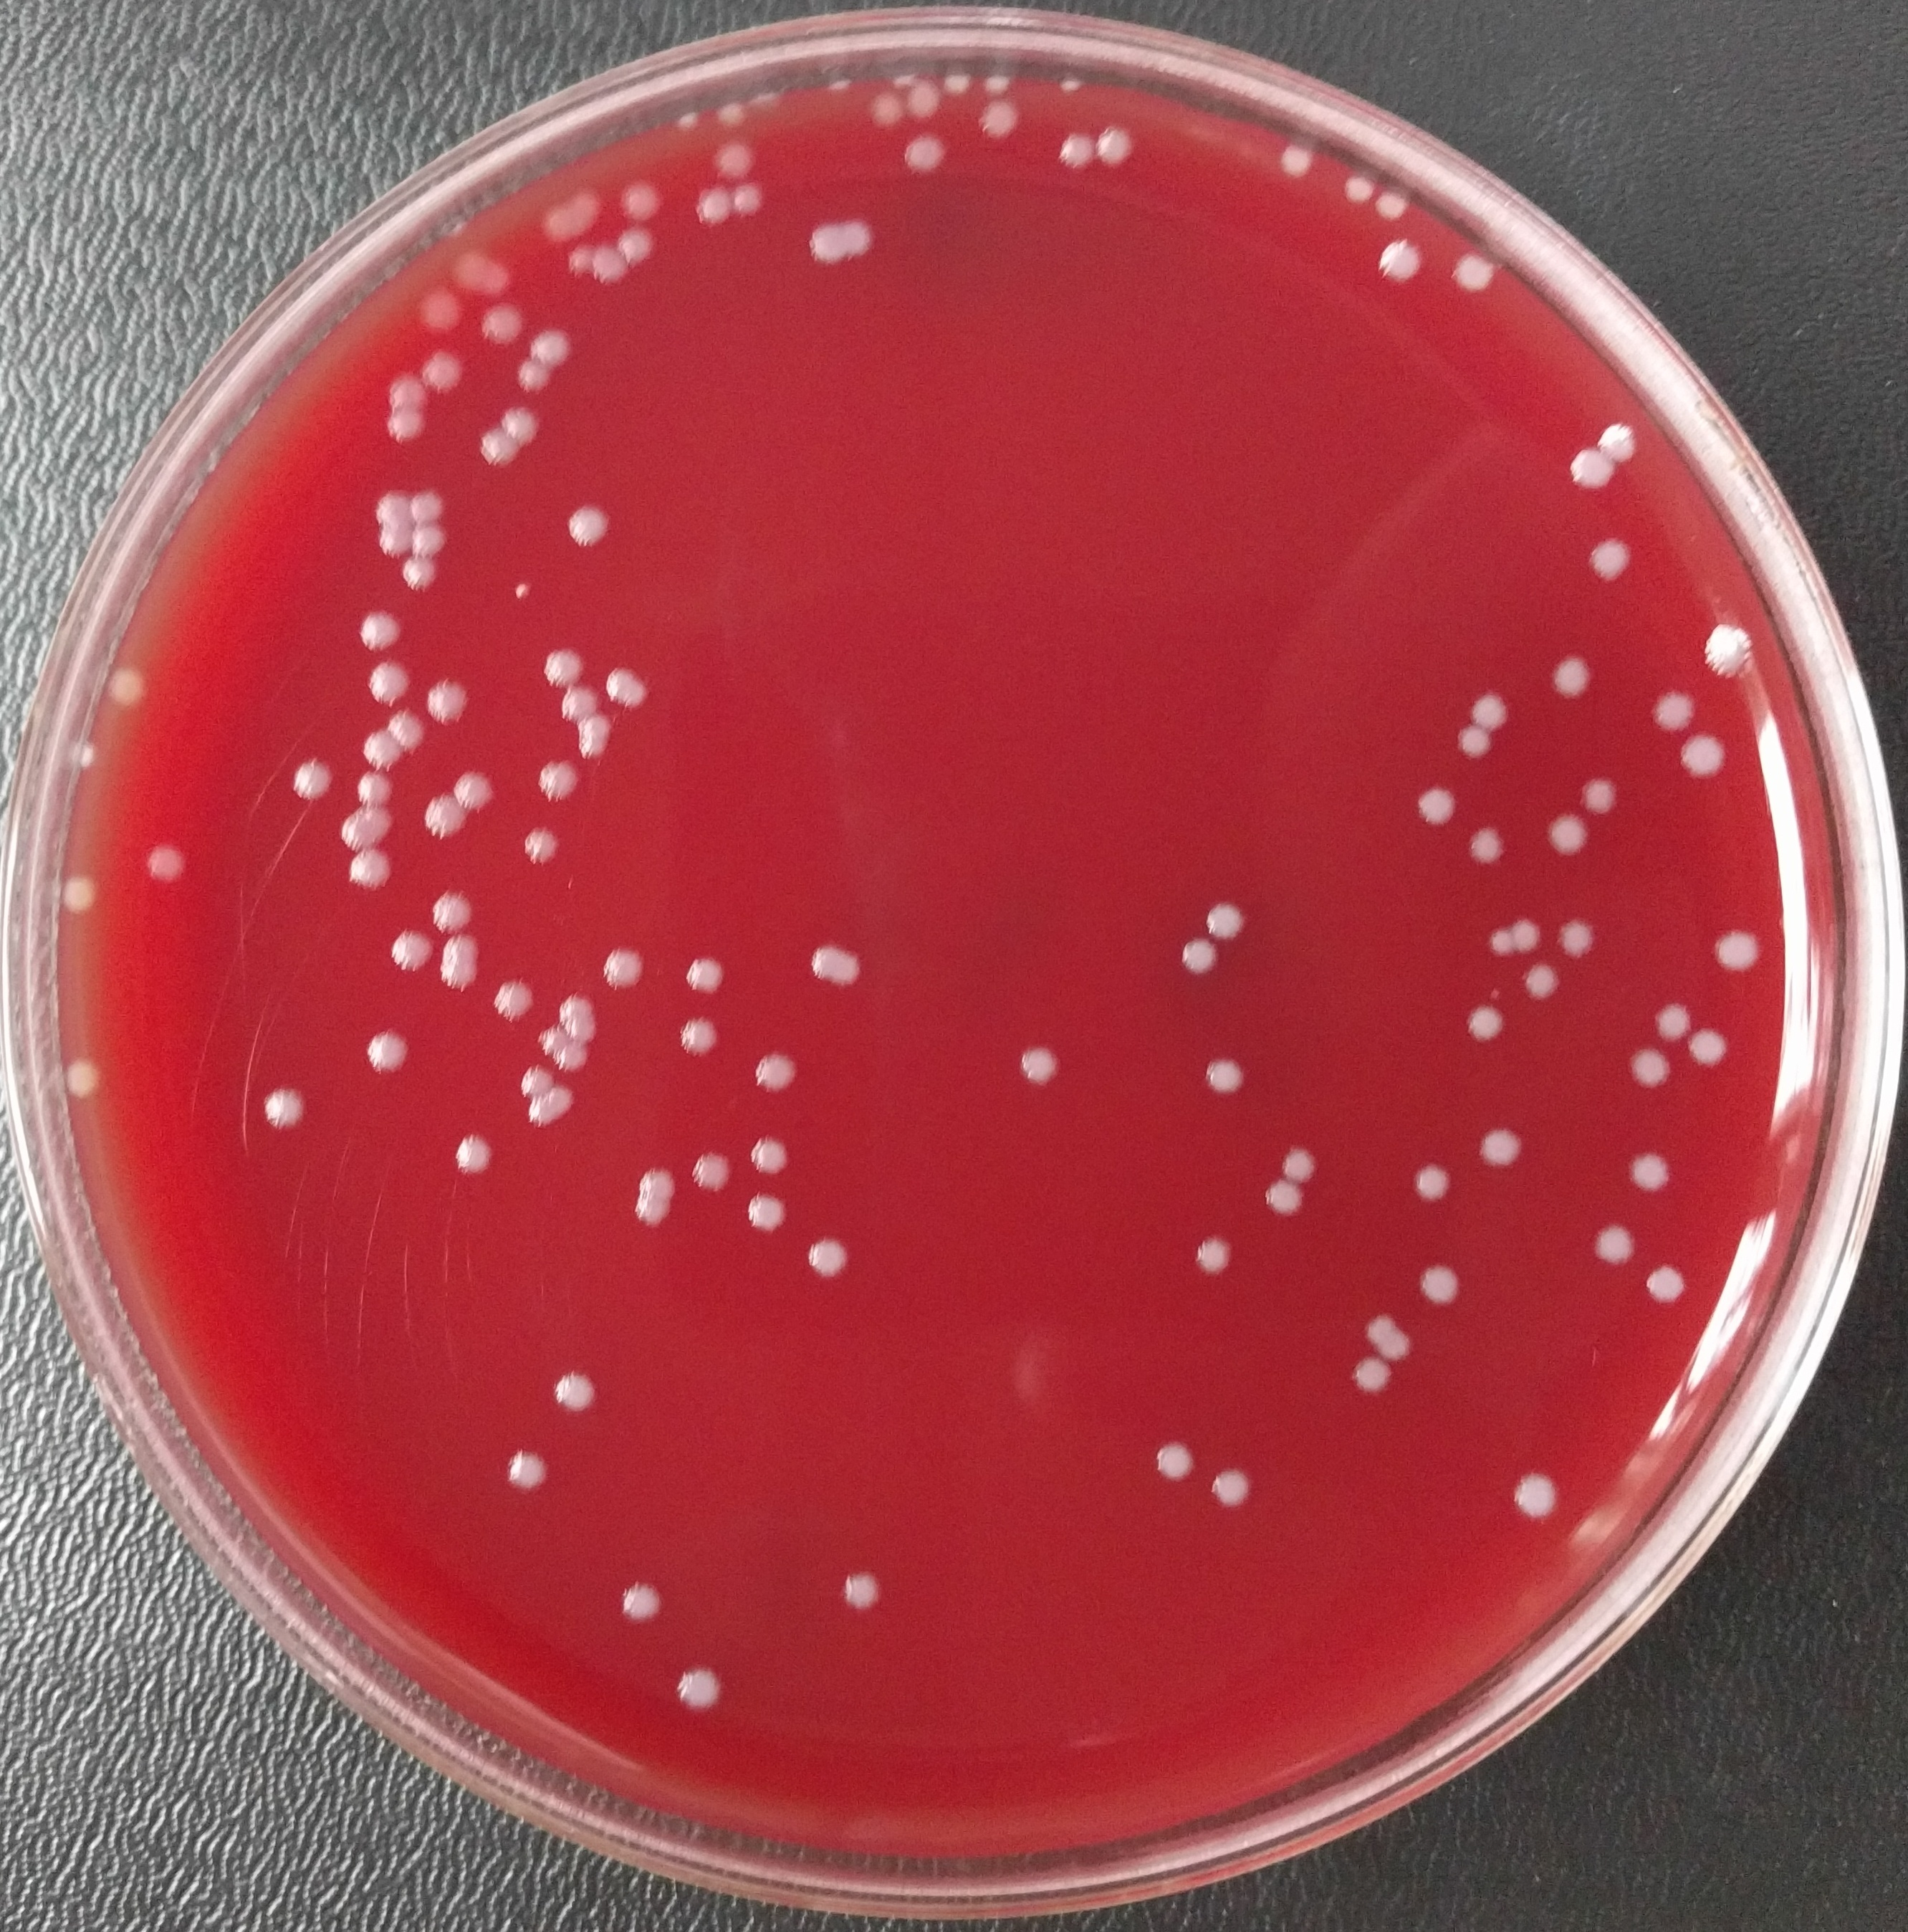sp15: (1702, 620, 1759, 683), (669, 1663, 730, 1719), (259, 1083, 316, 1134), (900, 133, 952, 185), (549, 1366, 601, 1417), (561, 501, 613, 552), (362, 1027, 416, 1076), (1511, 1467, 1562, 1518), (1714, 926, 1765, 976), (1566, 445, 1616, 496), (388, 926, 440, 975), (617, 1579, 669, 1628), (454, 1127, 501, 1181), (1587, 1221, 1642, 1266), (362, 659, 414, 706), (1375, 234, 1426, 281), (804, 1235, 856, 1280), (292, 755, 337, 807), (1480, 1125, 1532, 1170), (383, 407, 437, 451), (1450, 248, 1497, 297), (601, 947, 652, 992), (1597, 417, 1642, 468), (977, 100, 1022, 150), (1468, 690, 1520, 734), (426, 891, 480, 933), (423, 791, 470, 838), (426, 678, 474, 725), (479, 300, 526, 348), (753, 1048, 802, 1094), (1414, 784, 1462, 830), (1578, 774, 1627, 819), (1627, 1151, 1677, 1195), (688, 1148, 734, 1195), (1464, 999, 1510, 1046), (1587, 535, 1634, 580), (505, 1450, 554, 1494), (557, 676, 601, 725), (1644, 1261, 1688, 1310), (1545, 811, 1588, 859), (1683, 732, 1726, 781), (475, 423, 519, 472), (619, 175, 662, 224), (1059, 128, 1101, 178), (1017, 1043, 1062, 1088), (608, 666, 652, 713), (1192, 1233, 1235, 1280), (107, 666, 150, 713), (1630, 1046, 1674, 1094), (1211, 1466, 1253, 1515), (353, 769, 405, 807), (1421, 1259, 1457, 1314), (491, 978, 536, 1022), (1520, 961, 1566, 1004), (612, 222, 657, 266), (360, 728, 407, 770), (56, 877, 103, 919), (358, 608, 405, 650), (1464, 826, 1506, 873), (1553, 652, 1595, 699), (748, 1134, 792, 1177), (1555, 914, 1599, 957), (685, 954, 727, 999), (538, 758, 584, 800), (1092, 126, 1137, 168), (423, 288, 465, 334), (840, 1570, 888, 1611), (577, 714, 615, 763), (517, 826, 566, 865), (428, 346, 467, 395), (351, 851, 395, 893), (59, 1059, 112, 1094), (386, 706, 426, 751), (1415, 1162, 1454, 1209), (812, 220, 849, 269), (147, 842, 189, 884), (1653, 688, 1695, 730), (1263, 1176, 1303, 1219), (1155, 1439, 1192, 1487), (1351, 1359, 1398, 1396), (744, 1195, 785, 1237), (1690, 1029, 1730, 1071), (407, 486, 447, 528), (514, 355, 556, 395), (694, 189, 732, 232), (386, 369, 432, 405), (454, 770, 496, 809), (503, 405, 542, 447), (868, 86, 903, 131), (1508, 914, 1541, 961), (909, 79, 942, 126), (1206, 898, 1244, 938), (828, 949, 867, 989), (1653, 1001, 1693, 1039), (374, 487, 414, 526), (638, 1162, 680, 1198), (842, 218, 879, 260), (451, 250, 484, 295), (1279, 1144, 1319, 1181), (531, 330, 571, 367), (631, 1191, 673, 1226), (400, 555, 442, 590), (1209, 1059, 1248, 1095), (680, 1018, 718, 1055), (414, 519, 453, 555), (1179, 940, 1214, 980), (1372, 187, 1414, 220), (439, 933, 491, 959), (573, 189, 603, 234), (342, 814, 377, 852), (1454, 727, 1492, 762), (716, 145, 755, 180), (591, 248, 629, 283), (515, 1060, 556, 1094), (545, 646, 582, 681), (730, 187, 769, 220), (1279, 136, 1310, 176), (542, 1083, 577, 1118), (363, 804, 398, 838), (1365, 1310, 1396, 1349), (524, 1094, 564, 1123), (1340, 171, 1373, 206), (440, 957, 477, 989), (557, 1043, 594, 1074), (715, 98, 744, 136), (381, 521, 411, 559), (538, 1022, 570, 1057), (1375, 1333, 1414, 1361), (545, 204, 571, 245), (1485, 928, 1517, 961), (484, 260, 512, 295), (566, 243, 594, 278), (812, 943, 837, 978), (561, 1015, 601, 1036), (977, 73, 1012, 96), (676, 112, 702, 138), (554, 994, 585, 1015), (512, 580, 535, 606), (942, 72, 968, 93), (828, 77, 856, 96), (1059, 72, 1075, 94)
